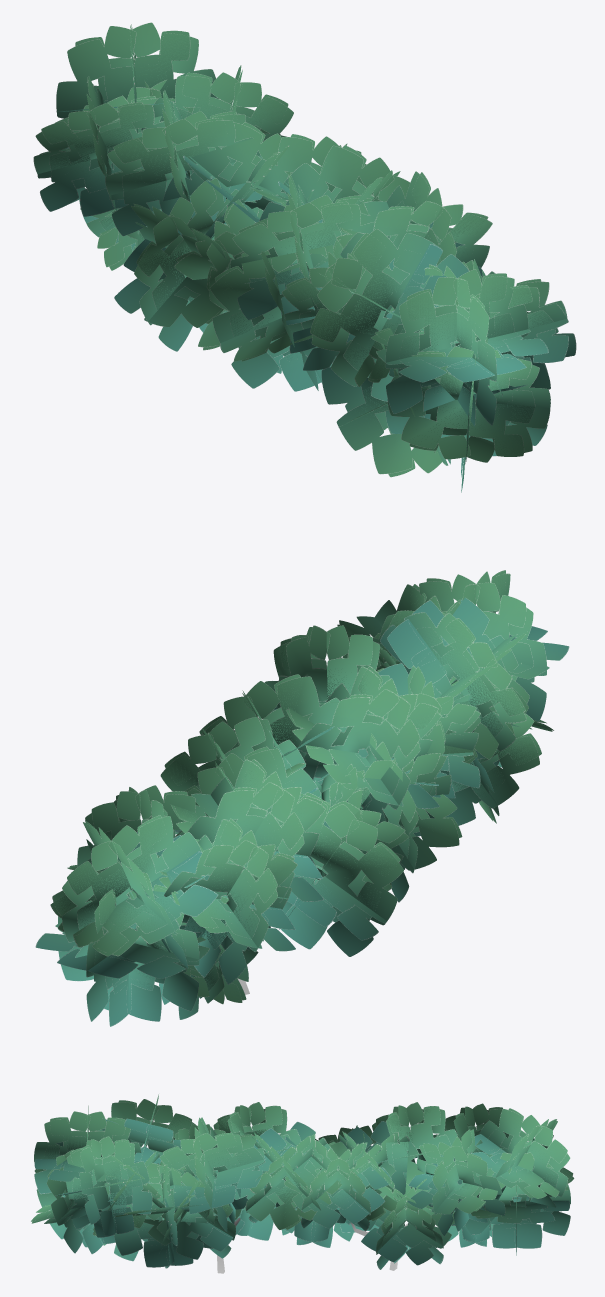
The model's file is TSP_Fence_Green_01C.fbx.
3 renders of one model, top to bottom at view 1: azimuth 30°, elevation 25°; view 2: azimuth 150°, elevation 25°; view 3: azimuth 270°, elevation 25°, orthographic. The views are drawn at different scales.
Parts seen in each view (by area): view 1: TSP_Fence_Green_01C; view 2: TSP_Fence_Green_01C; view 3: TSP_Fence_Green_01C.
Part boxes in pixels (left/top/right/bottom): TSP_Fence_Green_01C: left=33, top=22, right=576, bottom=492; TSP_Fence_Green_01C: left=35, top=570, right=569, bottom=1026; TSP_Fence_Green_01C: left=31, top=1094, right=574, bottom=1273.
Size of the model in its own units: 1.89 by 1.66 by 4.76.
